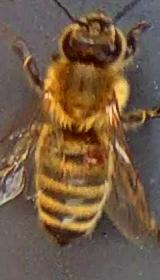varroa_mite: (76, 134, 112, 176)
